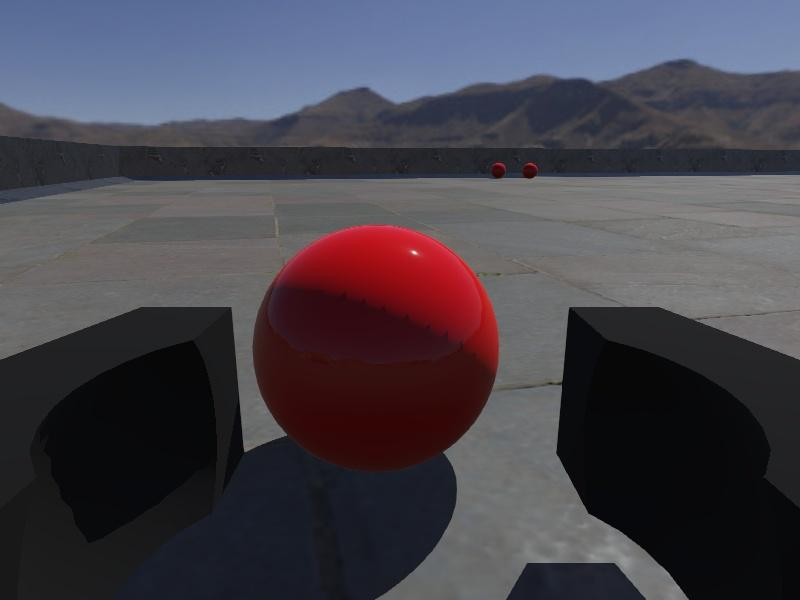red ball: (252, 224, 500, 475), (489, 162, 507, 179), (521, 161, 538, 179)
